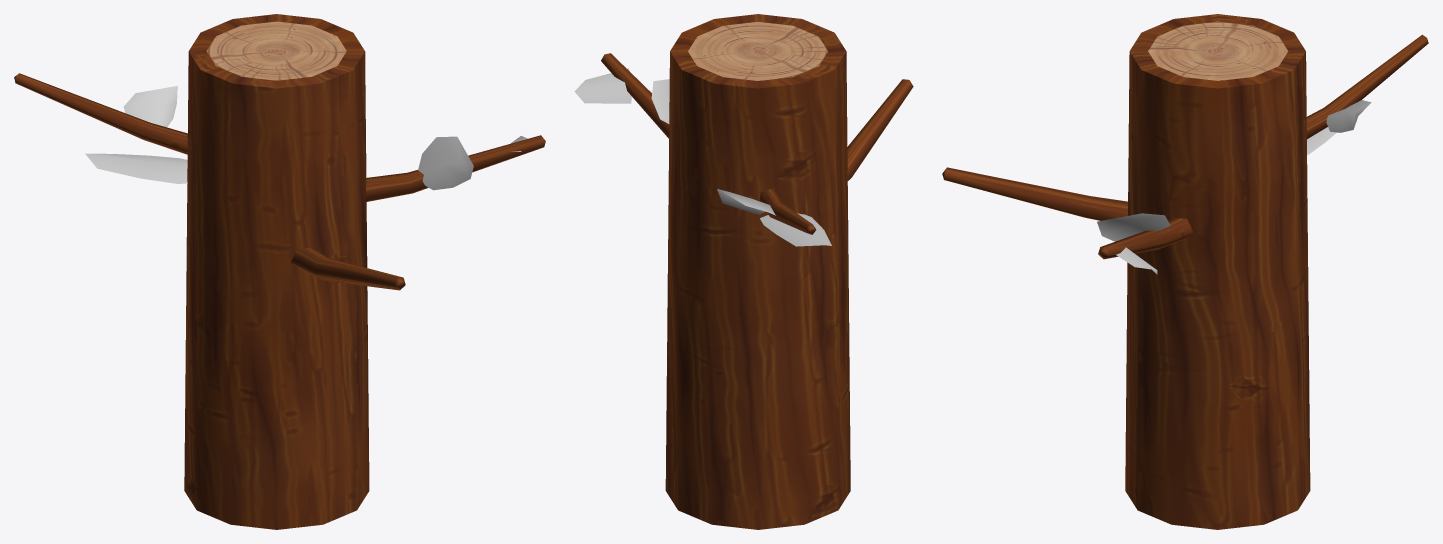
Rendered from obj_harvests_trees_spruce02_p02.fbx.
The picture shows the model from 3 angles, left to right: view 1: azimuth 30°, elevation 25°; view 2: azimuth 150°, elevation 25°; view 3: azimuth 270°, elevation 25°; orthographic projection.
Parts seen in each view (by area): view 1: obj_harvests_trees_spruce02_p02; view 2: obj_harvests_trees_spruce02_p02; view 3: obj_harvests_trees_spruce02_p02.
Boxes of the visible parts, left/top/right/bottom form: obj_harvests_trees_spruce02_p02: left=14, top=14, right=545, bottom=529; obj_harvests_trees_spruce02_p02: left=574, top=14, right=913, bottom=529; obj_harvests_trees_spruce02_p02: left=942, top=14, right=1428, bottom=529.
Size of the model in its own units: 7.13 by 8.01 by 8.02.
